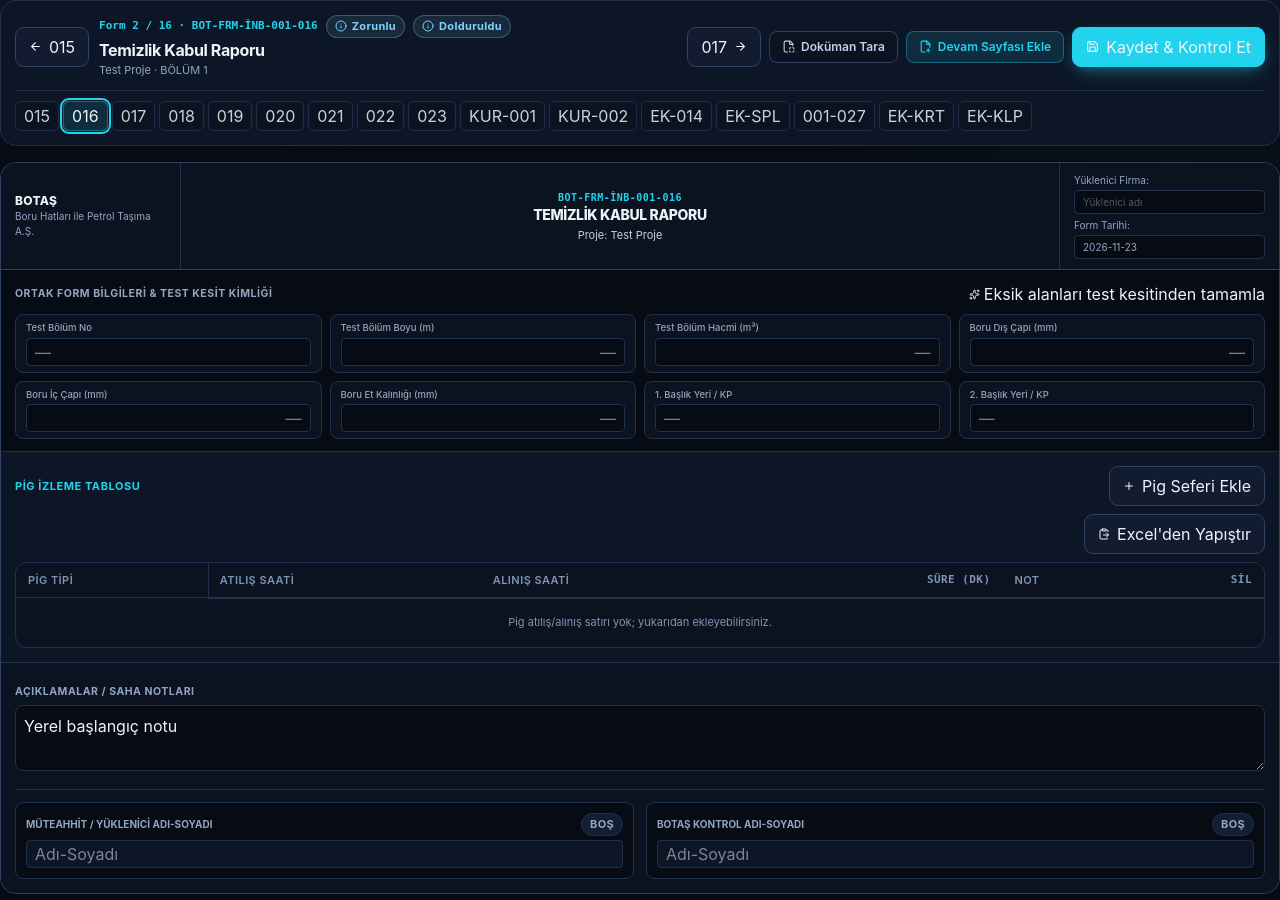
Test: SectionFormPage optimistic concurrency (F1) › sends current revision via If-Match and handles 409 revision_conflict with force-overwrite
Later steps or results of the test are not shown.
Expected: the field showing "2026-11-23" is shown, [1074,235,1265,259]
Click the button "Kaydet & Kontrol Et". click: point(1169, 47)
box: [1072,27,1265,67]
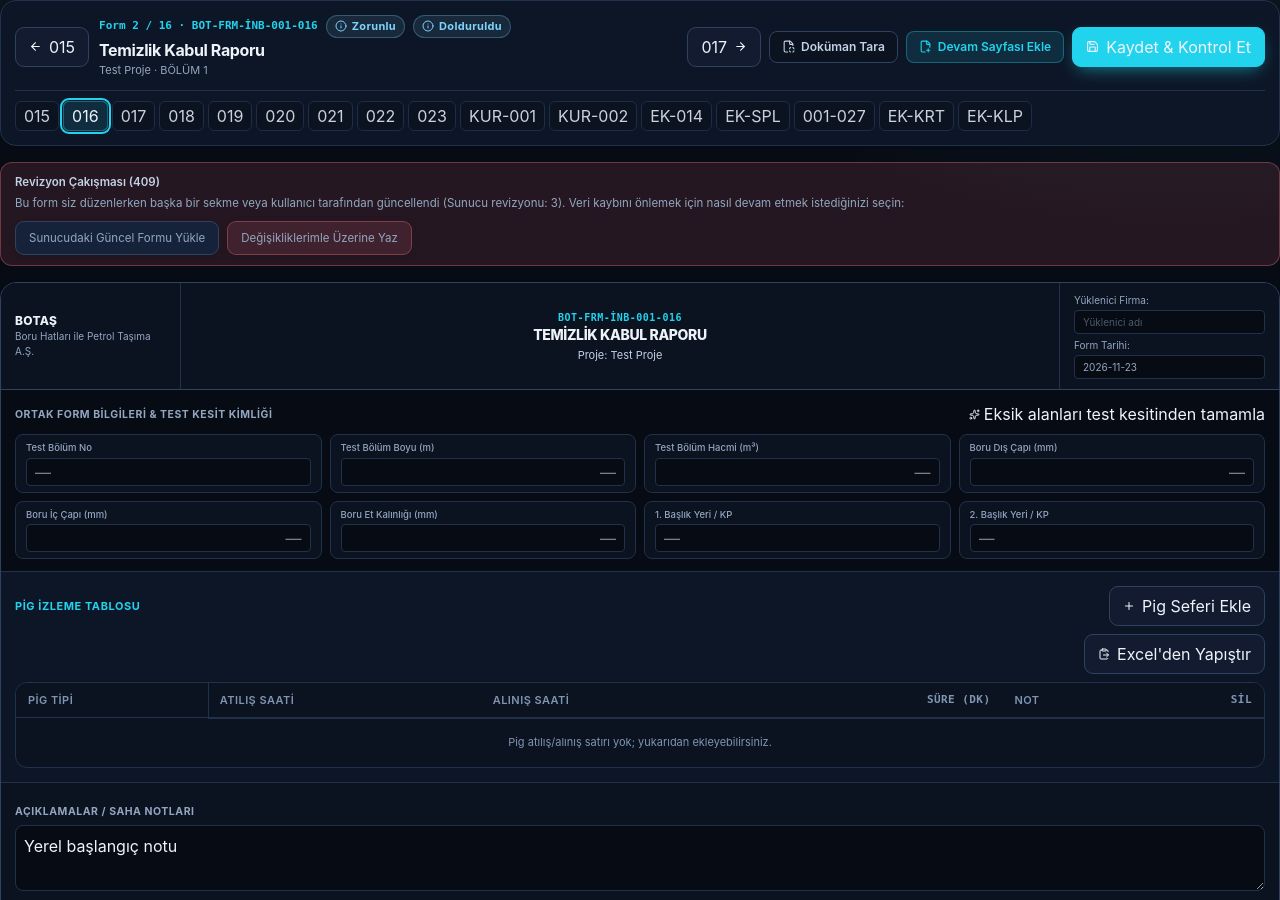
Expected: the text "başka bir sekme veya kullanıcı" is shown, [15,196,551,210]
Expected: the button "Sunucudaki Güncel Formu Yükle" is shown, [15,221,219,255]
